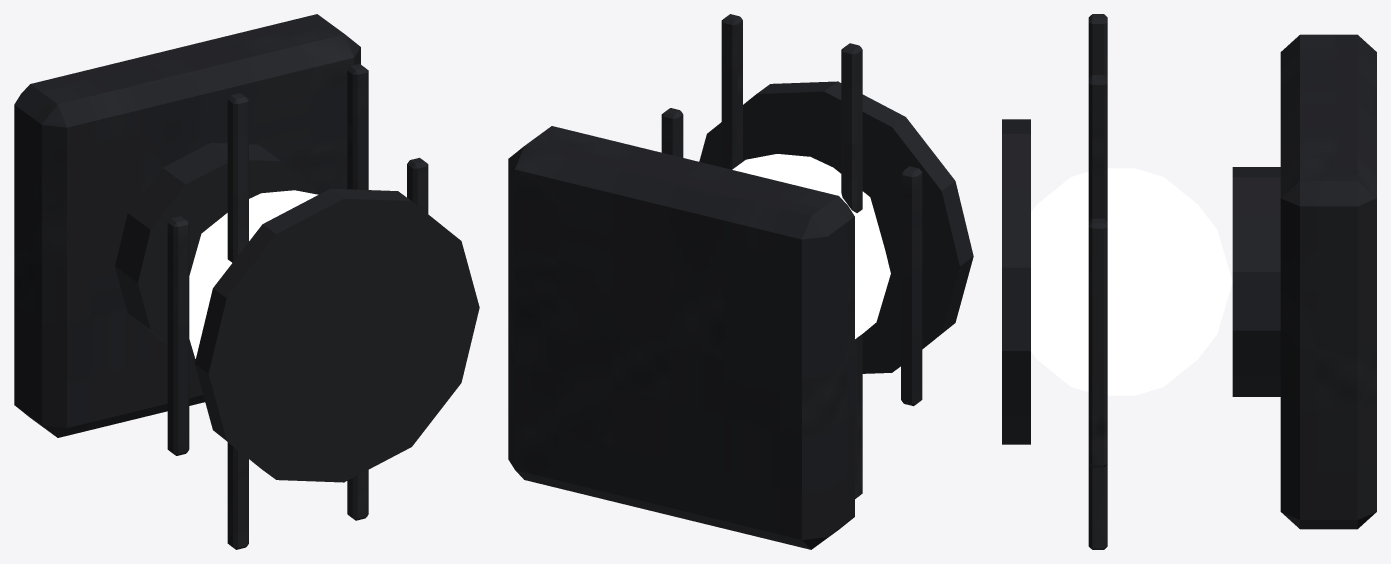
File: lamp_caged.glb
3 renders of one model, left to right at view 1: azimuth 30°, elevation 25°; view 2: azimuth 150°, elevation 25°; view 3: azimuth 270°, elevation 25°, orthographic. The views are drawn at different scales.
Parts seen in each view (by area): view 1: body; view 2: body; view 3: body.
Boxes of the visible parts, left/top/right/bottom form: body: left=14, top=14, right=479, bottom=549; body: left=508, top=14, right=973, bottom=549; body: left=1002, top=14, right=1376, bottom=549.
Size of the model in its own units: 0.2 by 0.2699 by 0.195.
Materials: 2 (1 with a texture image).
